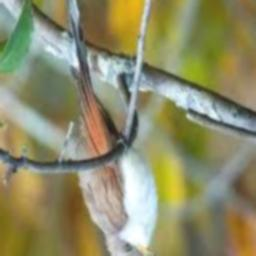Cuckoo: (63, 0, 157, 256)
